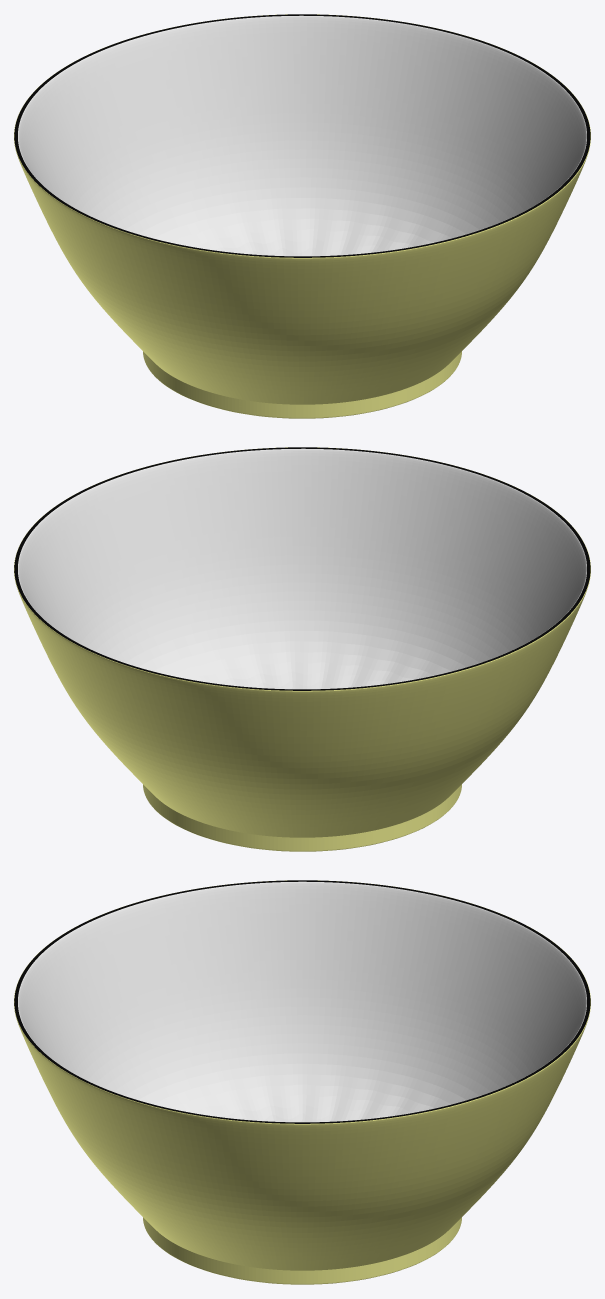
File: bowl.fbx
The picture shows the model from 3 angles, top to bottom: view 1: azimuth 30°, elevation 25°; view 2: azimuth 150°, elevation 25°; view 3: azimuth 270°, elevation 25°; orthographic projection.
Visible parts, largest first — view 1: Cylindre; view 2: Cylindre; view 3: Cylindre.
Boxes of the visible parts, x1,y1,x2,y2 form: Cylindre: (14, 14, 590, 418); Cylindre: (14, 447, 590, 851); Cylindre: (14, 880, 590, 1284).
Bounding box in the file's own units: 359 × 148 × 359.
